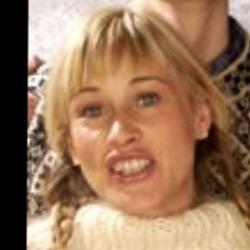face: (40, 2, 238, 215)
